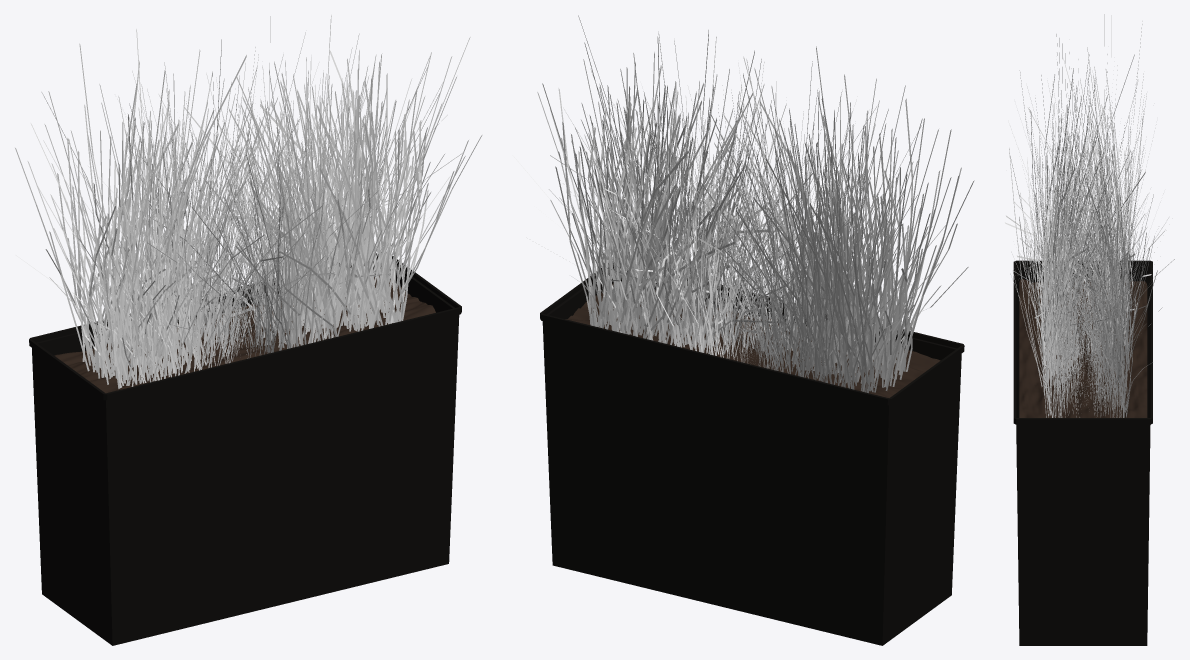
File: doniczka.fbx
3 views of the same model, side by side, from view 1: azimuth 30°, elevation 25°; view 2: azimuth 150°, elevation 25°; view 3: azimuth 270°, elevation 25° (orthographic). The views are drawn at different scales.
Visible parts, largest first — view 1: Cube, Mesh, Plane; view 2: Cube, Mesh, Plane; view 3: Cube, Mesh, Plane.
Part boxes in pixels (x1,y1,x2,y2): Cube: (29,252,461,645); Mesh: (15,15,482,388); Plane: (54,275,435,393); Cube: (540,263,964,645); Mesh: (512,15,974,393); Plane: (565,283,940,397); Cube: (1013,260,1152,645); Mesh: (1005,14,1174,417); Plane: (1019,279,1147,417).
Bounding box in the file's own units: 72.2 × 86.42 × 26.93.
